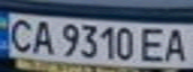0: (115, 25, 139, 61)
1: (97, 24, 118, 60)
3: (78, 22, 100, 60)
9: (54, 20, 81, 58)
A: (160, 25, 193, 63), (27, 18, 57, 56)
C: (3, 16, 36, 53)
E: (136, 25, 172, 63)
